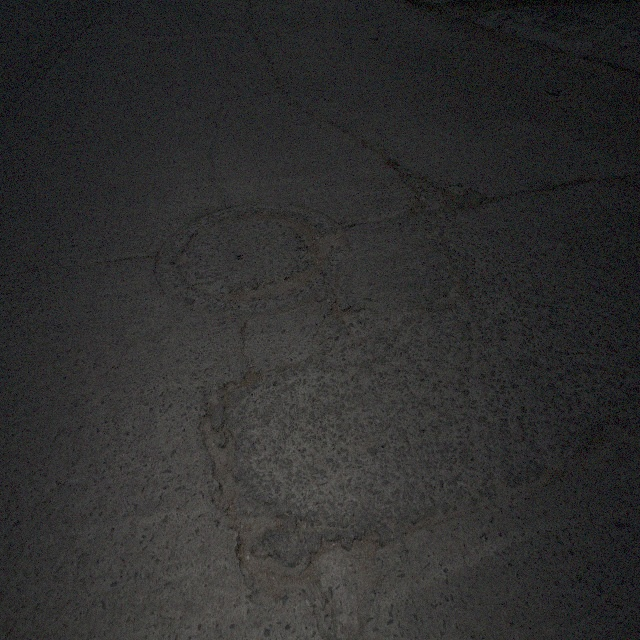pothole: (199, 357, 314, 613), (242, 206, 332, 306), (388, 166, 470, 218), (346, 529, 381, 624), (326, 287, 370, 329), (327, 217, 353, 252)
